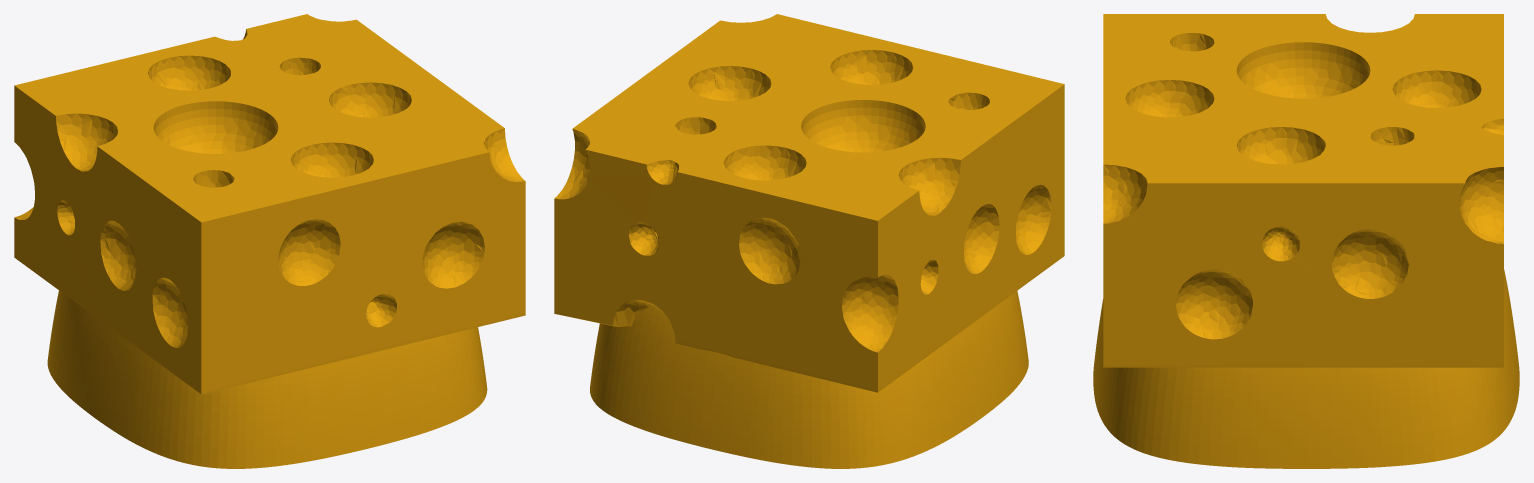
Rendered from keycap_Chess.glb.
3 views of the same model, side by side, from view 1: azimuth 30°, elevation 25°; view 2: azimuth 150°, elevation 25°; view 3: azimuth 270°, elevation 25° (orthographic). The views are drawn at different scales.
Visible parts, largest first — view 1: keycap_Chess; view 2: keycap_Chess; view 3: keycap_Chess.
Boxes of the visible parts, bbox=[...] form: keycap_Chess: bbox=[14, 14, 525, 468]; keycap_Chess: bbox=[554, 14, 1064, 468]; keycap_Chess: bbox=[1093, 14, 1519, 468].
Bounding box in the file's own units: 19.16 × 13.92 × 19.16.
